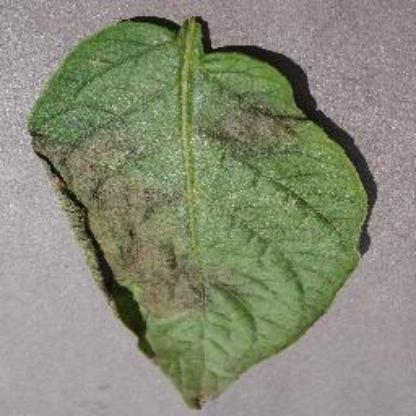Late-Blight: (13, 10, 407, 410)
